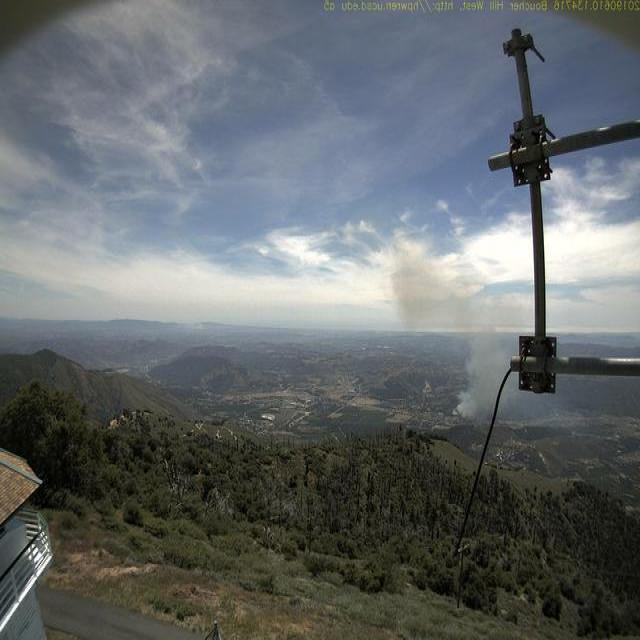Smoke: (389, 228, 514, 415)
